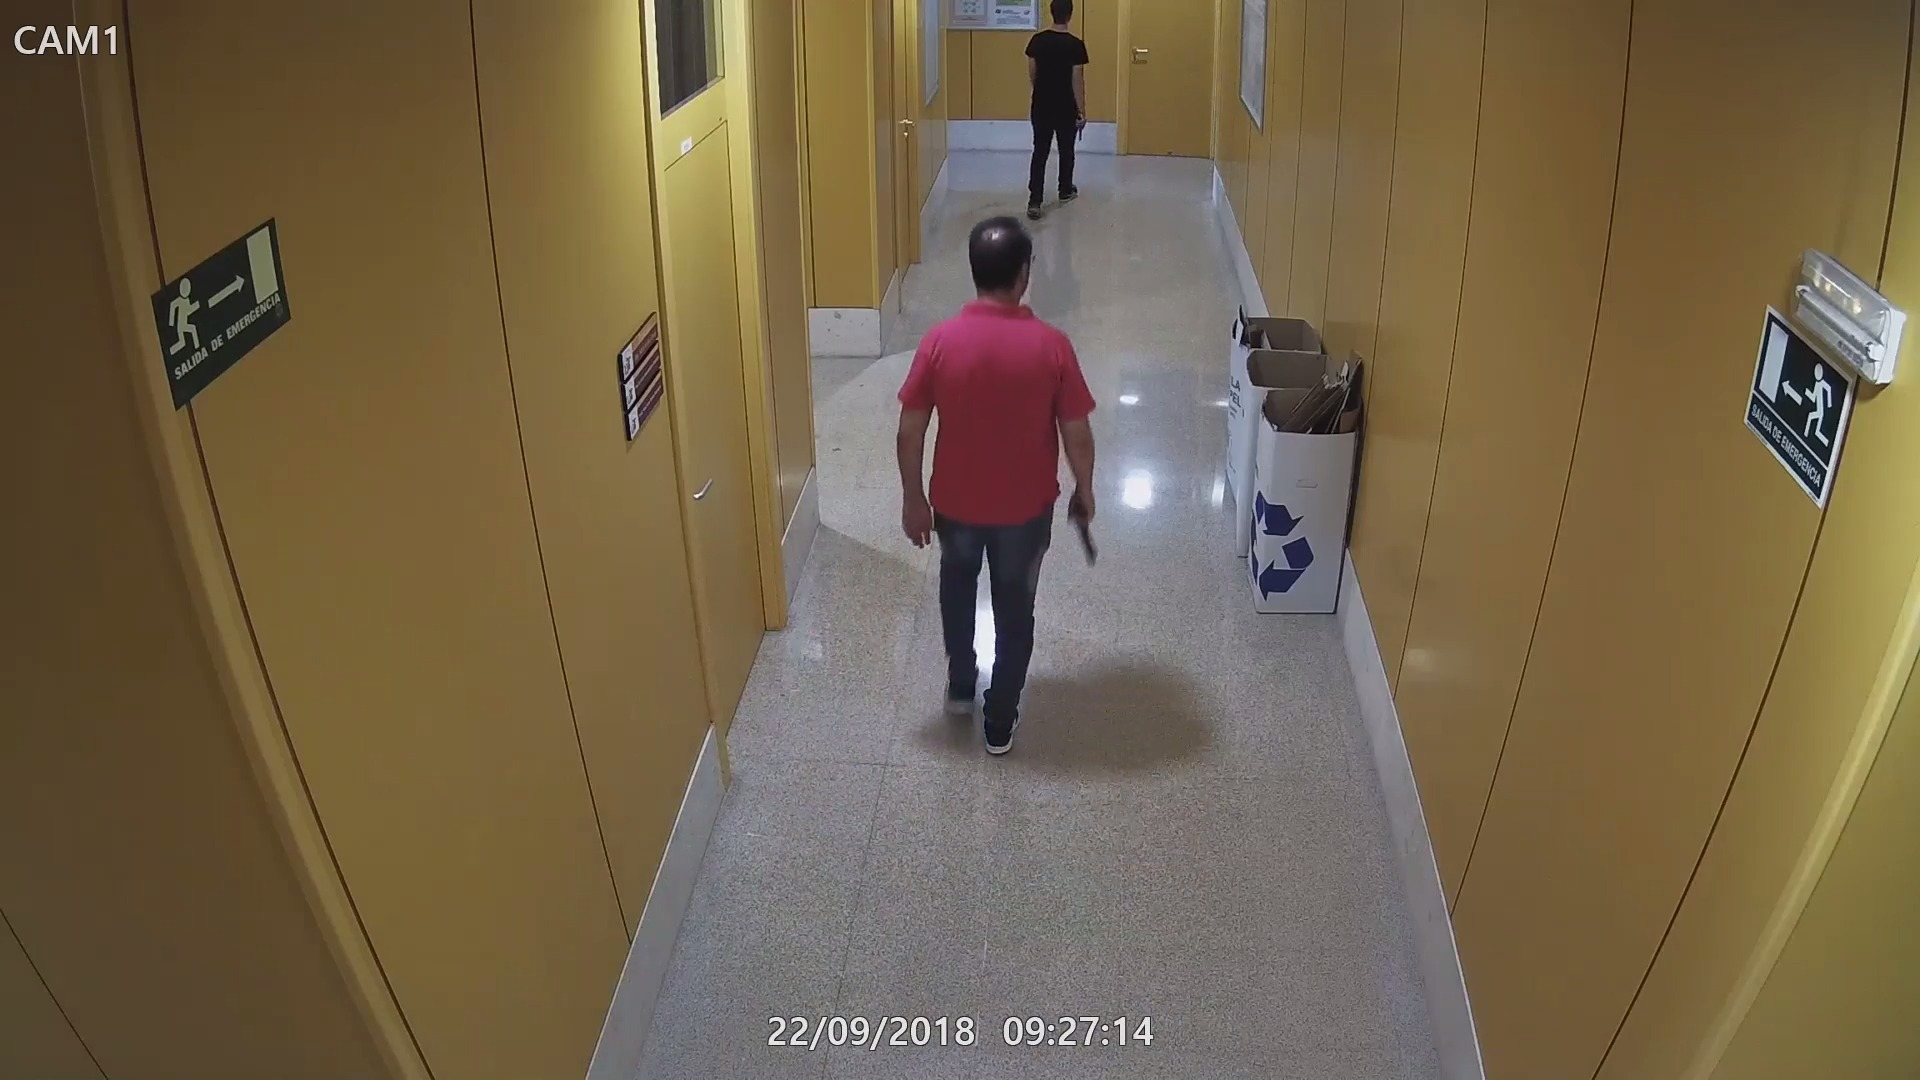Handgun: (1065, 487, 1105, 568), (1067, 109, 1093, 141)
